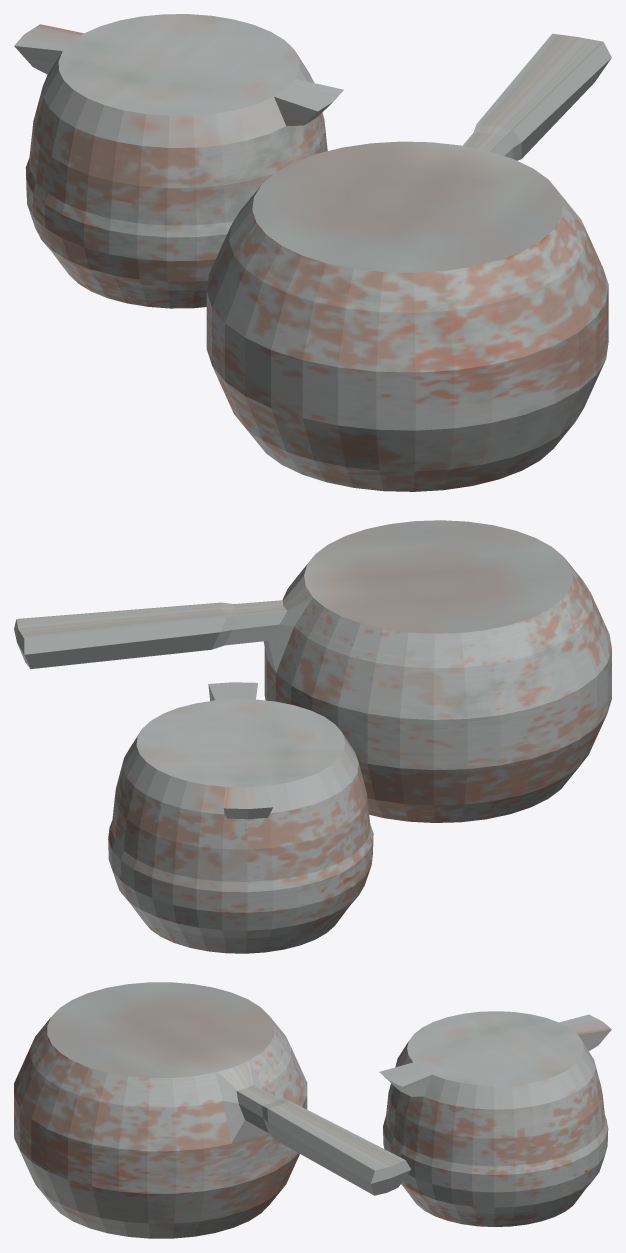
File: panelas.fbx
The picture shows the model from 3 angles, top to bottom: view 1: azimuth 30°, elevation 25°; view 2: azimuth 150°, elevation 25°; view 3: azimuth 270°, elevation 25°; orthographic projection. The views are drawn at different scales.
Visible parts, largest first — view 1: Cylinder.001, Cylinder; view 2: Cylinder.001, Cylinder; view 3: Cylinder.001, Cylinder.
Boxes of the visible parts, x1,y1,x2,y2 form: Cylinder.001: (206,33,611,491); Cylinder: (14,14,343,308); Cylinder.001: (14,520,611,822); Cylinder: (108,682,373,953); Cylinder.001: (14,982,410,1238); Cylinder: (379,1011,611,1226).
Size of the model in its own units: 498 by 201 by 675.
2 materials, 2 textured.
